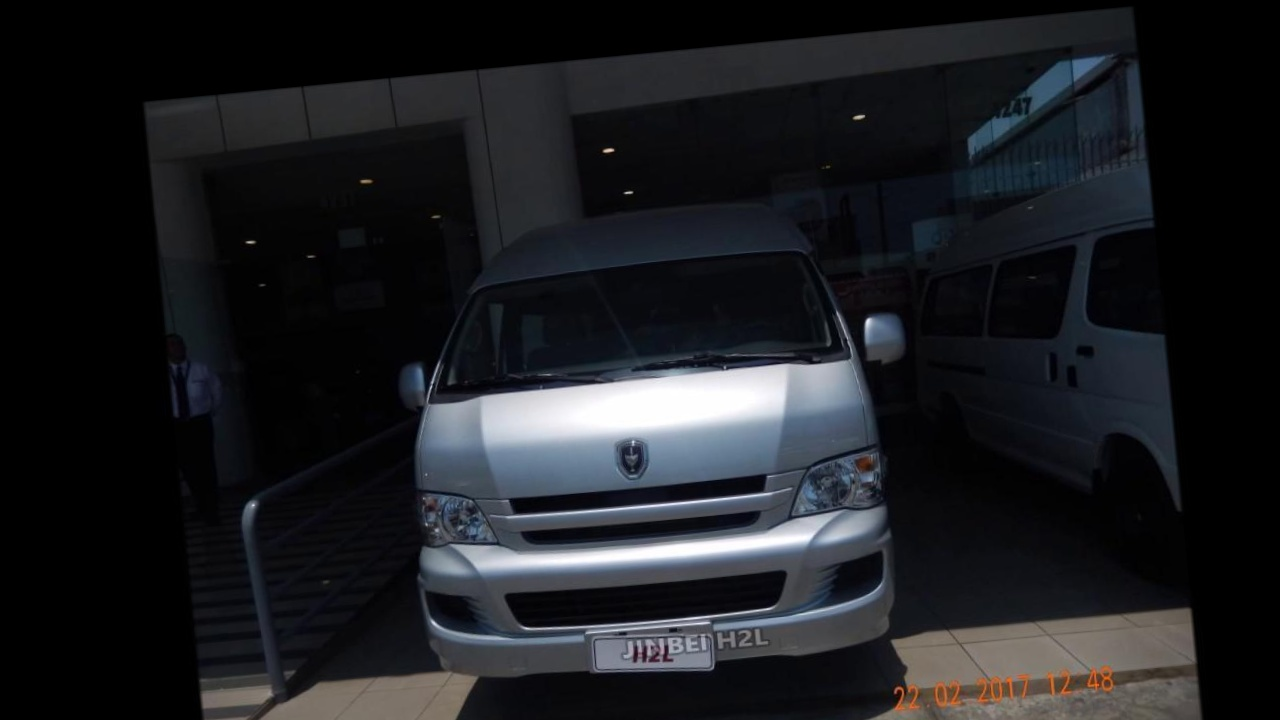van: (375, 178, 949, 720)
